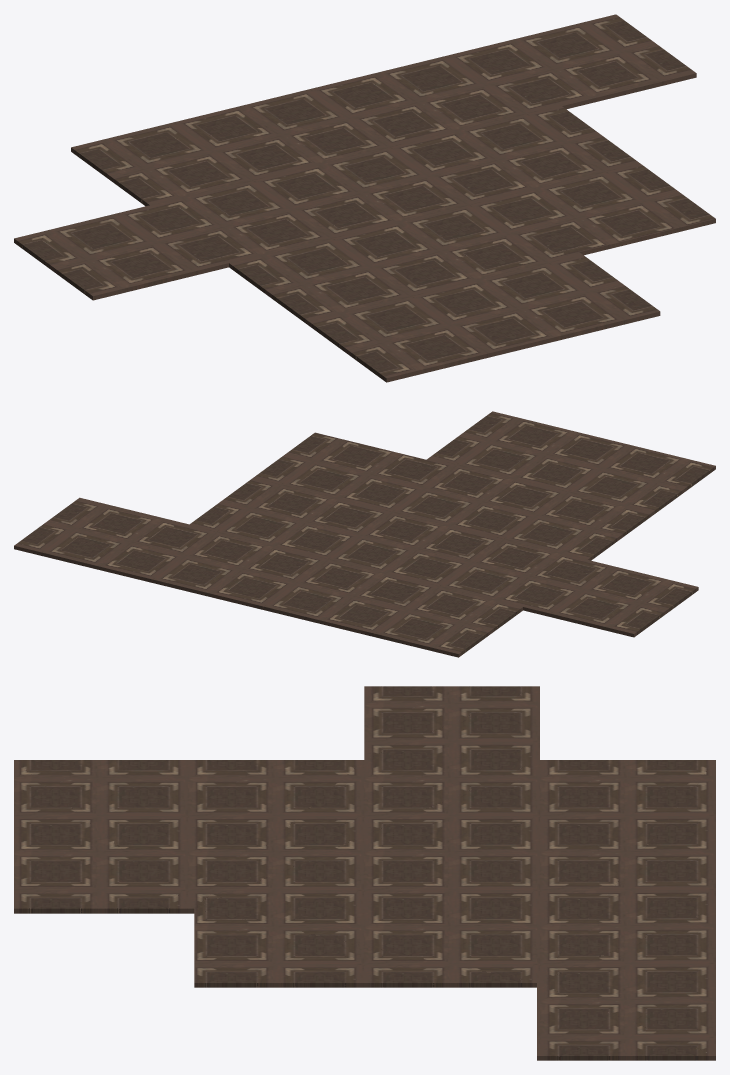
File: Homeworld_Interior_Ly_Room_K_Ceiling_01_Vo.fbx
3 renders of one model, top to bottom at view 1: azimuth 30°, elevation 25°; view 2: azimuth 150°, elevation 25°; view 3: azimuth 270°, elevation 25°, orthographic. The views are drawn at different scales.
Parts seen in each view (by area): view 1: Homeworld_Interior_Ly_Room_K_Ceiling_01_Vo; view 2: Homeworld_Interior_Ly_Room_K_Ceiling_01_Vo; view 3: Homeworld_Interior_Ly_Room_K_Ceiling_01_Vo.
Part boxes in pixels (x1,y1,x2,y2): Homeworld_Interior_Ly_Room_K_Ceiling_01_Vo: [14, 14, 715, 382]; Homeworld_Interior_Ly_Room_K_Ceiling_01_Vo: [14, 411, 715, 657]; Homeworld_Interior_Ly_Room_K_Ceiling_01_Vo: [14, 686, 715, 1060].
Size of the model in its own units: 24.99 by 0.15 by 20.05.
